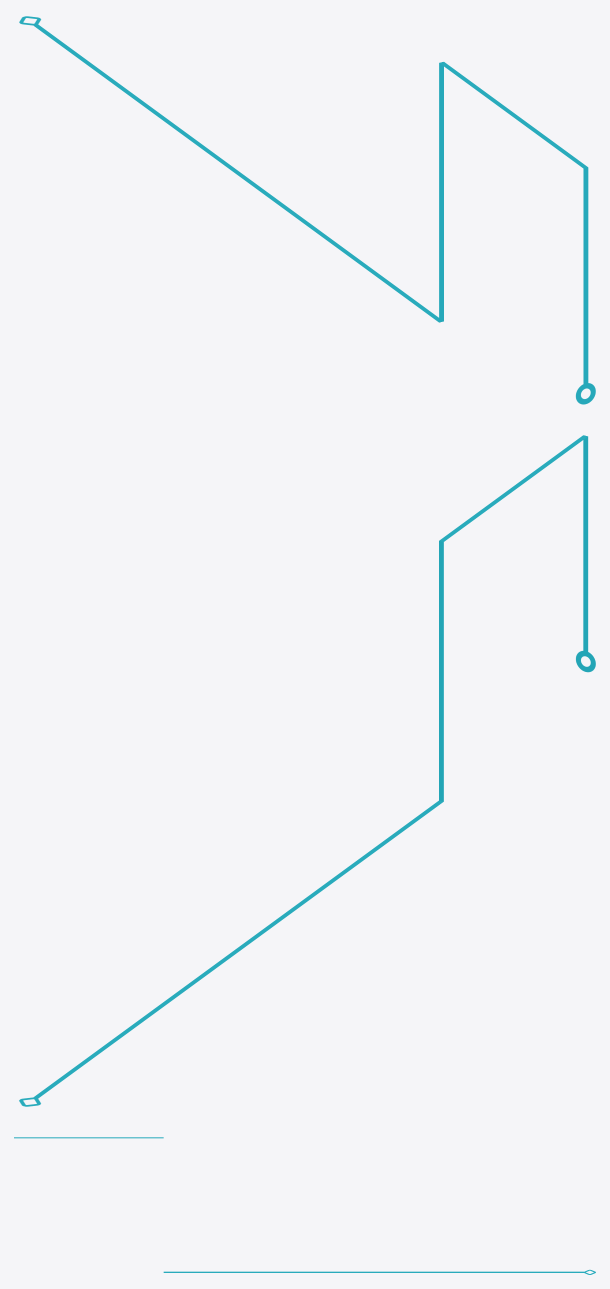
File: 7_4_cl_inactive.glb
3 views of the same model, one above another, from view 1: azimuth 30°, elevation 25°; view 2: azimuth 150°, elevation 25°; view 3: azimuth 270°, elevation 25° (orthographic). The views are drawn at different scales.
Parts seen in each view (by area): view 1: 7_4_cl_inactive; view 2: 7_4_cl_inactive; view 3: 7_4_cl_inactive.
Boxes of the visible parts, x1,y1,x2,y2 form: 7_4_cl_inactive: (19, 16, 595, 404); 7_4_cl_inactive: (19, 435, 595, 1106); 7_4_cl_inactive: (14, 1137, 595, 1274).
Bounding box in the file's own units: 0.3315 × 4 × 15.68.
Materials: 1 (1 with a texture image).
